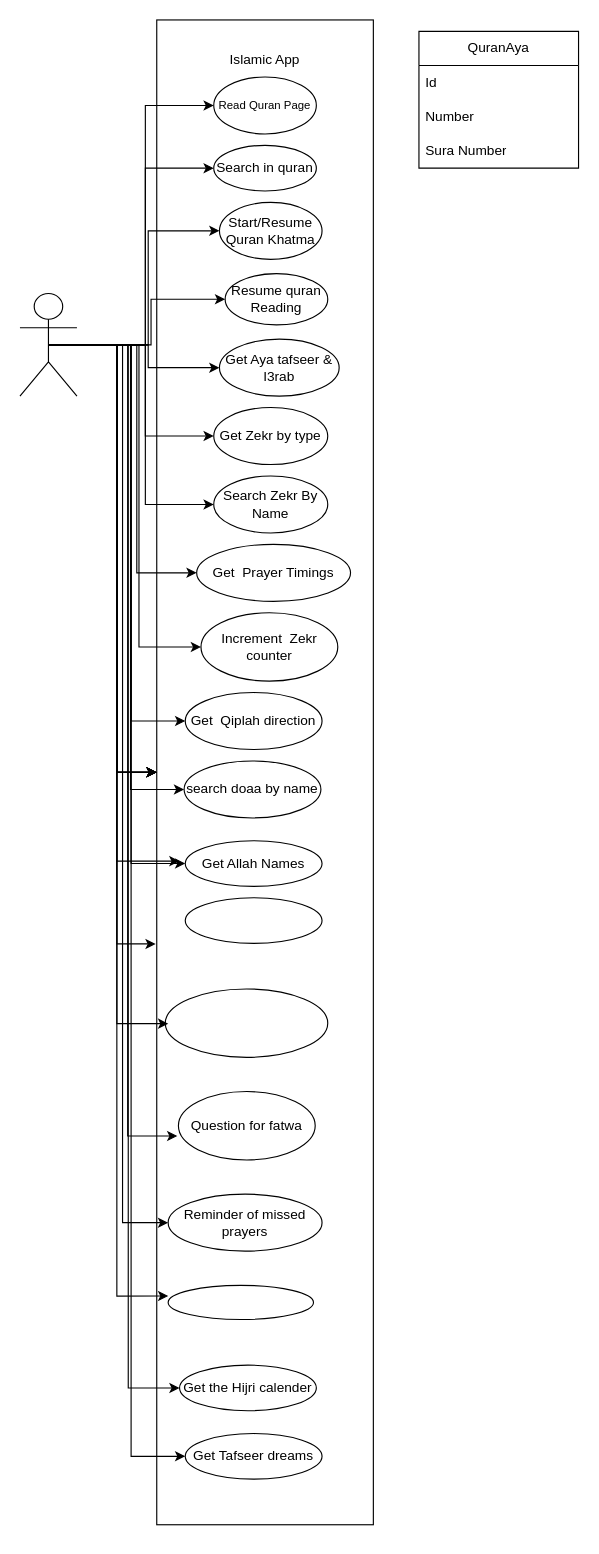
Some shapes in this 599 by 1554 pixel diagram are drawn without their labels. Each missing label, with the centre of its shape:
"Get Meanings of Allah Names" belongs at (x=253, y=920).
"Get nearst Mosque location" belongs at (x=246, y=1022).
"Search hadith by rawy" belongs at (x=240, y=1302).
"User" belongs at (x=48, y=344).
